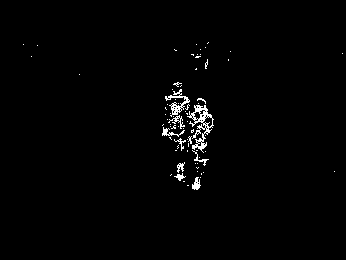person: (162, 82, 191, 182), (188, 99, 215, 188)
